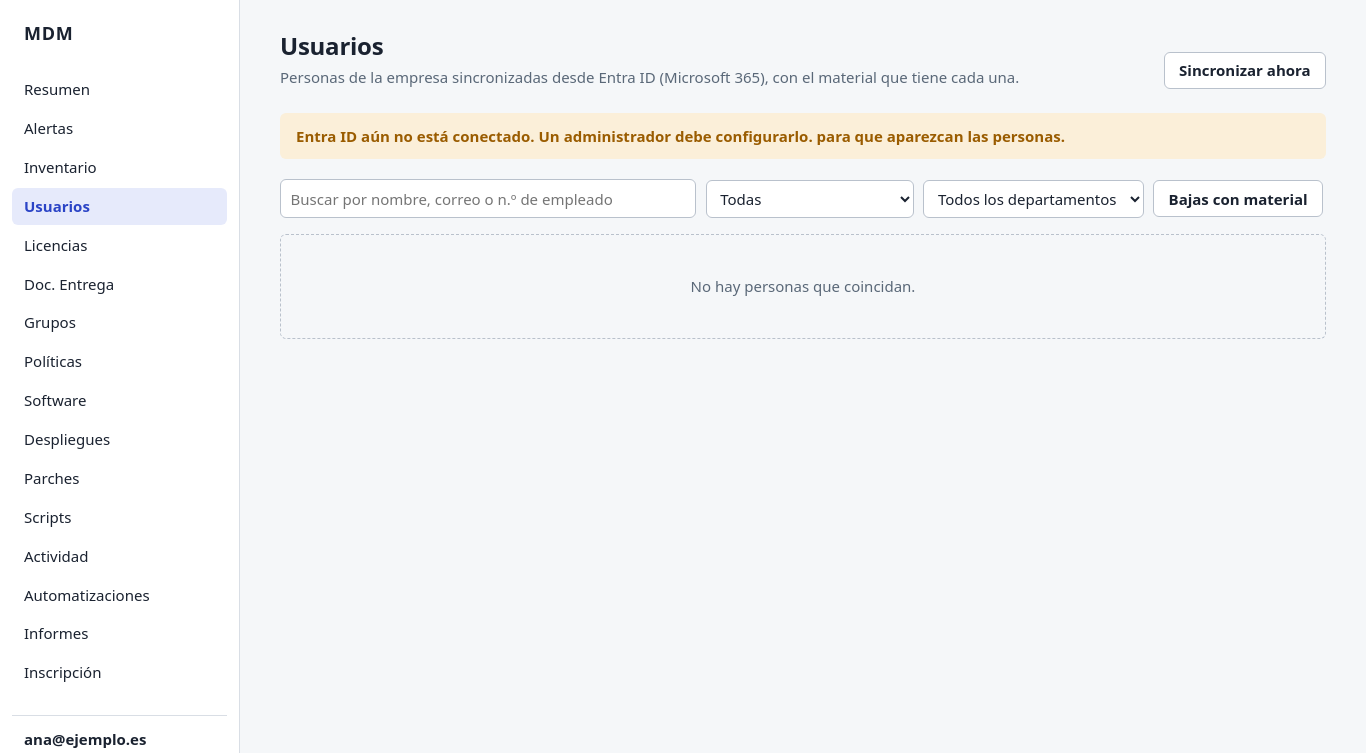
Test: Usuarios › sincronizar ahora y el aviso si Entra no está configurado
Check: the text "Entra ID aún no está conectado" is shown, box [296,126,538,146]
Click the button "Sincronizar ahora".
click(1245, 70)  # box [1164,52,1326,89]
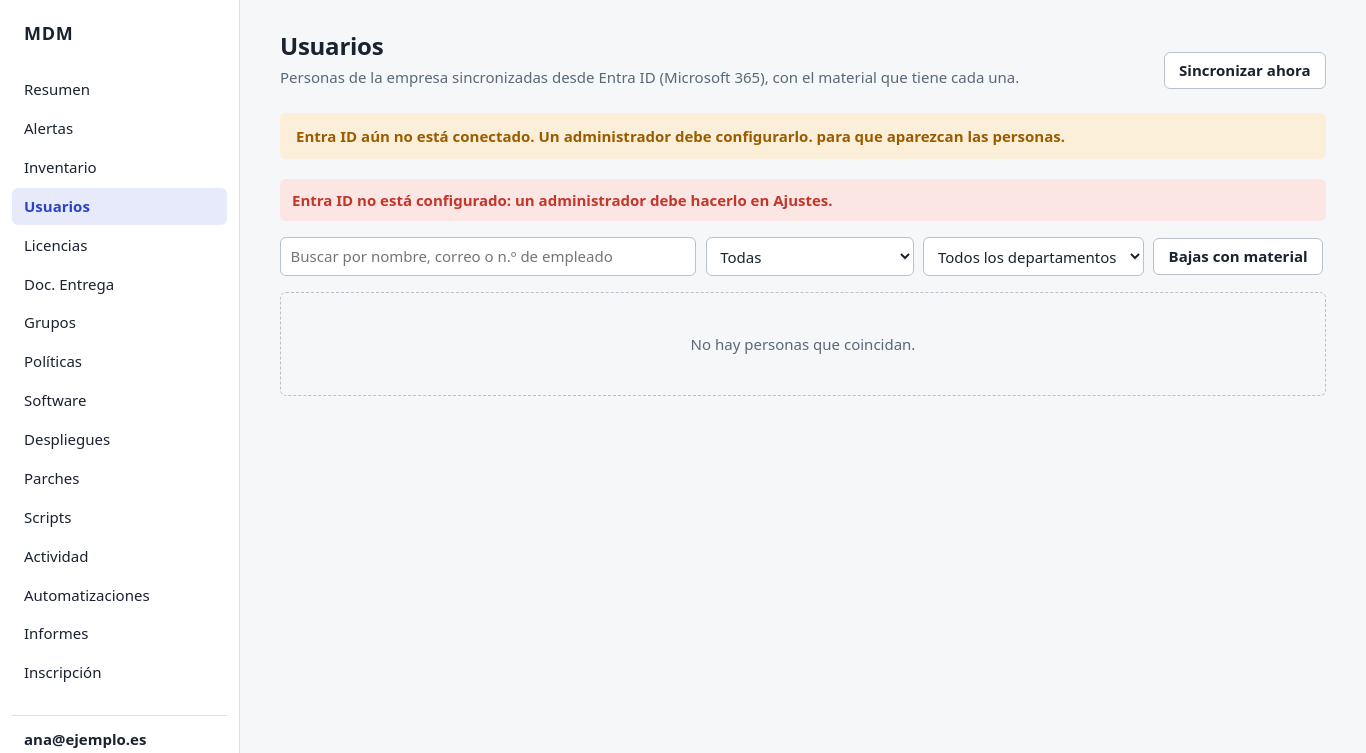
Check: the message shows "no está configurado", box [292,190,833,210]
